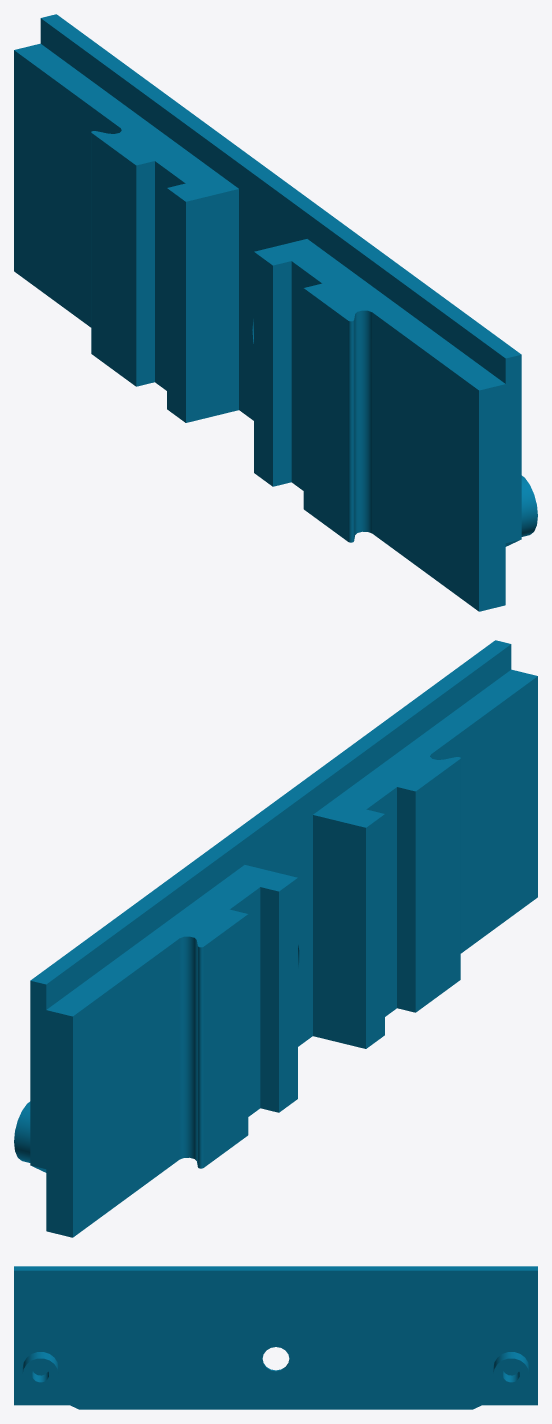
Rendered from cutter-lock-insert.glb.
3 views of the same model, one above another, from view 1: azimuth 30°, elevation 25°; view 2: azimuth 150°, elevation 25°; view 3: azimuth 270°, elevation 25° (orthographic). The views are drawn at different scales.
Size of the model in its own units: 0.00444 by 0.0113 by 0.0385.
